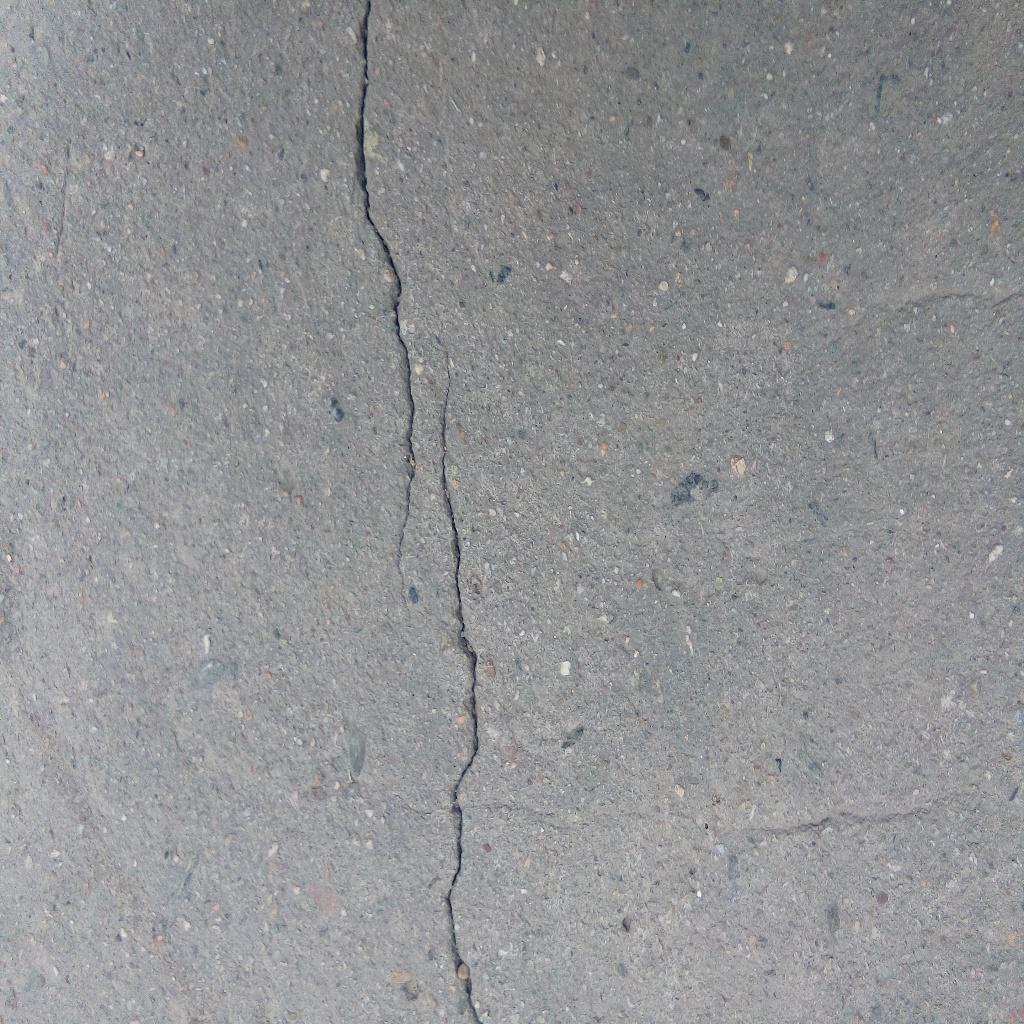Crack: (352, 1, 416, 624), (431, 332, 481, 1024)
